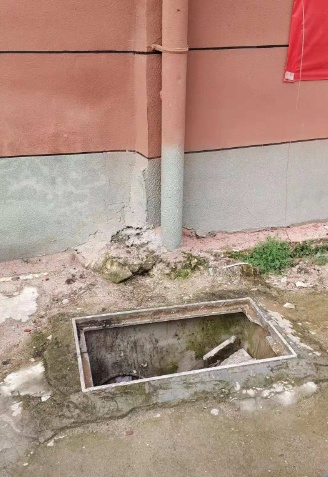lose: (71, 297, 296, 392)
